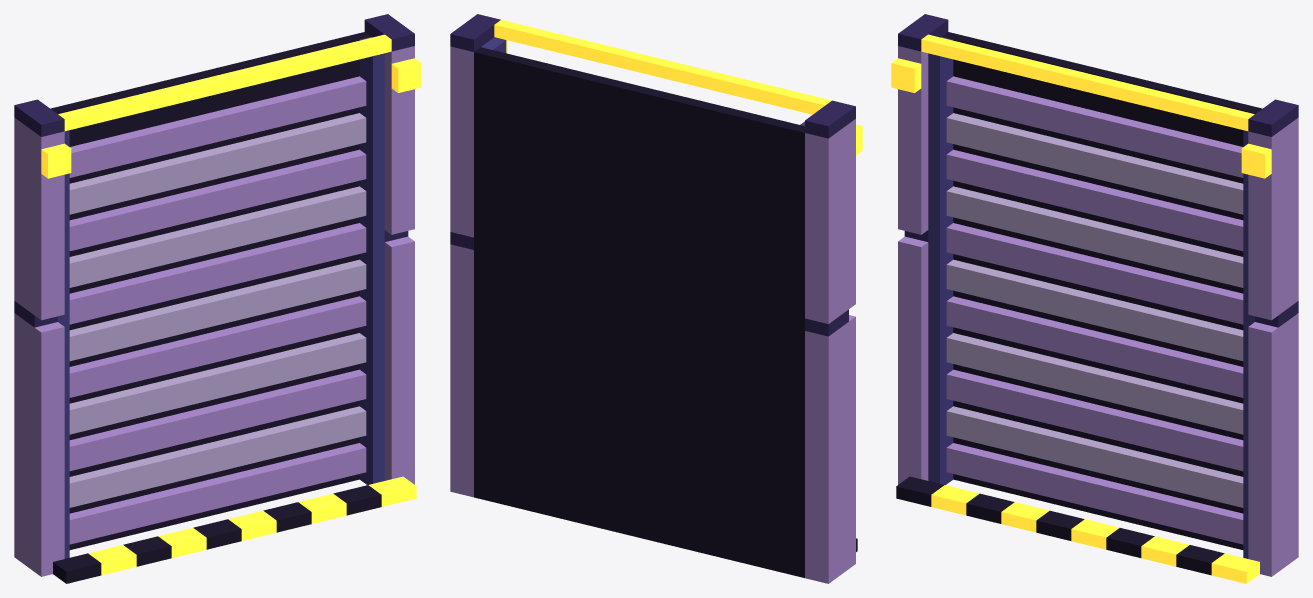
The model's file is cargo-door.2m.glb.
3 views of the same model, side by side, from view 1: azimuth 30°, elevation 25°; view 2: azimuth 150°, elevation 25°; view 3: azimuth 330°, elevation 25° (orthographic).
Visible parts, largest first — view 1: cargo-door.2m; view 2: cargo-door.2m; view 3: cargo-door.2m.
Part boxes in pixels (left/top/right/bottom): cargo-door.2m: left=14, top=14, right=421, bottom=583; cargo-door.2m: left=450, top=14, right=862, bottom=583; cargo-door.2m: left=891, top=14, right=1298, bottom=583.
Bounding box in the file's own units: 2 × 2.31 × 0.375.
